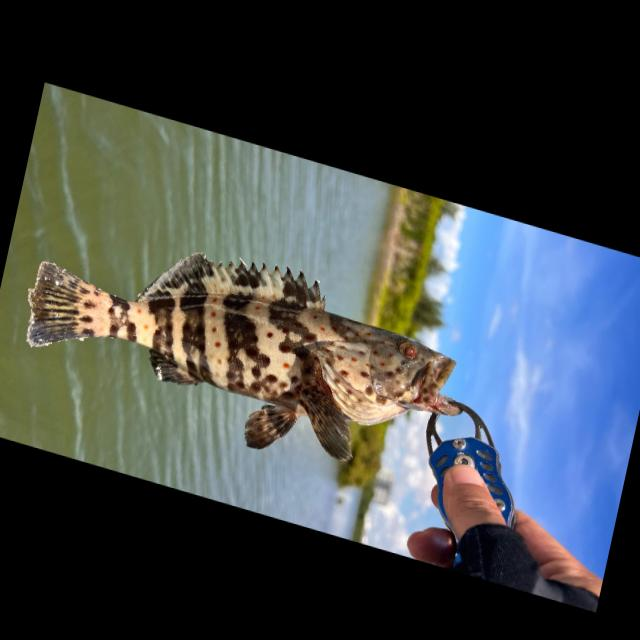Groupers: (14, 194, 488, 505)
